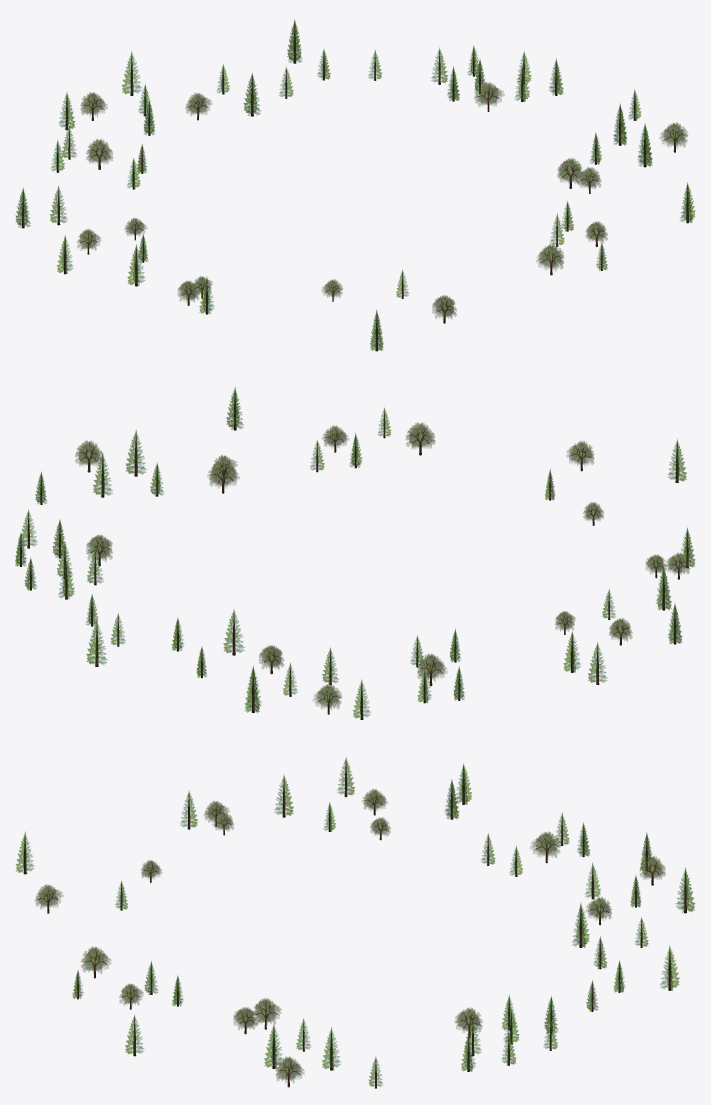
Rendered from PS_Arena_Trees.glb.
The picture shows the model from 3 angles, top to bottom: view 1: azimuth 30°, elevation 25°; view 2: azimuth 150°, elevation 25°; view 3: azimuth 270°, elevation 25°; orthographic projection. The views are drawn at different scales.
Parts seen in each view (by area): view 1: Arena Oak 048, Arena Oak 027, Arena Oak 036, Arena Oak 120; view 2: Arena Oak 024, Arena Oak 048, Arena Oak 036, Arena Oak 097, Arena Oak 120, Arena Oak 027, Arena Fir 085, Arena Oak 078, Arena Fir 093, Arena Fir 006; view 3: Arena Oak 036, Arena Oak 048, Arena Oak 024, Arena Oak 120, Arena Oak 027.
Boxes of the visible parts, <box> form: Arena Oak 048: <box>536,244,563,275</box>; Arena Oak 027: <box>474,81,504,111</box>; Arena Oak 036: <box>86,138,112,169</box>; Arena Oak 120: <box>659,122,687,152</box>; Arena Oak 024: <box>207,460,239,493</box>; Arena Oak 048: <box>406,422,435,455</box>; Arena Oak 036: <box>417,654,446,686</box>; Arena Oak 097: <box>313,683,341,714</box>; Arena Oak 120: <box>75,440,102,472</box>; Arena Oak 027: <box>86,535,112,566</box>; Arena Fir 085: <box>125,430,146,476</box>; Arena Oak 078: <box>566,441,594,471</box>; Arena Fir 093: <box>86,620,107,666</box>; Arena Fir 006: <box>223,610,244,655</box>; Arena Oak 036: <box>530,831,560,863</box>; Arena Oak 048: <box>81,947,110,978</box>; Arena Oak 024: <box>253,998,281,1029</box>; Arena Oak 120: <box>275,1056,304,1087</box>; Arena Oak 027: <box>455,1007,482,1037</box>.
Bounding box in the file's own units: 461 × 33.05 × 441.
Materials: 3 (3 with a texture image).
